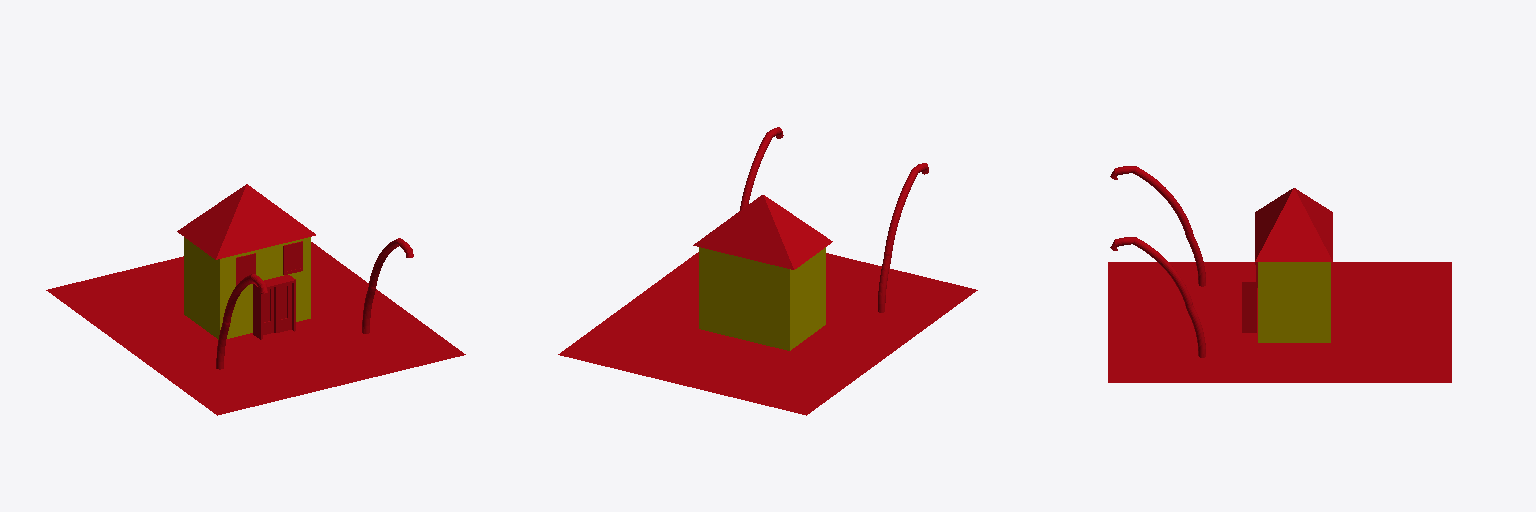
The picture shows the model from 3 angles: view 1: azimuth 30°, elevation 25°; view 2: azimuth 150°, elevation 25°; view 3: azimuth 270°, elevation 25°; orthographic projection.
Parts seen in each view (by area): view 1: Plane001, Box001, Pyramid001, SlidingDoor001, Cylinder002, Cylinder001, AwningWindow001; view 2: Plane001, Box001, Pyramid001, Cylinder001, Cylinder002; view 3: Plane001, Box001, Pyramid001, Cylinder002, Cylinder001, SlidingDoor001.
Part boxes in pixels (bbox=[...]): Plane001: bbox=[46, 242, 465, 415]; Box001: bbox=[184, 237, 310, 339]; Pyramid001: bbox=[177, 184, 315, 259]; SlidingDoor001: bbox=[253, 275, 295, 339]; Cylinder002: bbox=[362, 238, 413, 333]; Cylinder001: bbox=[216, 274, 267, 369]; AwningWindow001: bbox=[283, 241, 302, 274]; Plane001: bbox=[558, 252, 977, 415]; Box001: bbox=[699, 247, 825, 350]; Pyramid001: bbox=[693, 195, 832, 269]; Cylinder001: bbox=[878, 163, 928, 312]; Cylinder002: bbox=[740, 127, 783, 210]; Plane001: bbox=[1108, 262, 1451, 382]; Box001: bbox=[1258, 262, 1330, 342]; Pyramid001: bbox=[1255, 188, 1332, 261]; Cylinder002: bbox=[1110, 237, 1205, 357]; Cylinder001: bbox=[1110, 166, 1205, 286]; SlidingDoor001: bbox=[1242, 264, 1256, 332].
Bounding box in the file's own units: 253 × 131 × 302.